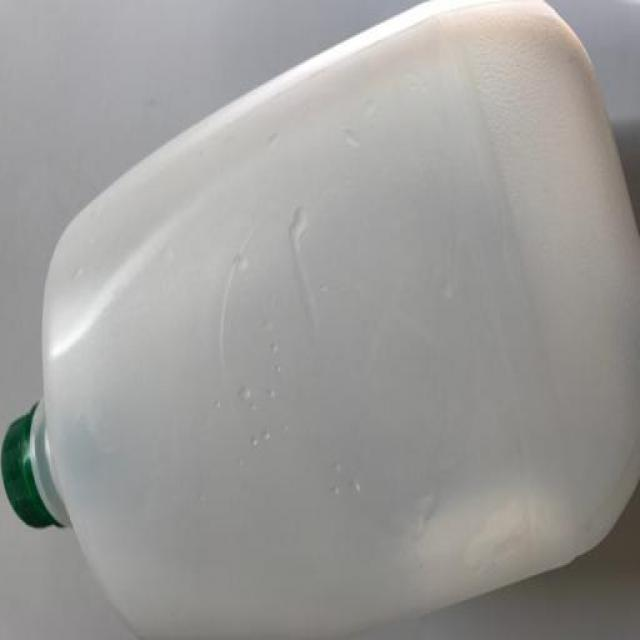plastic_bottle: (10, 2, 640, 633)
